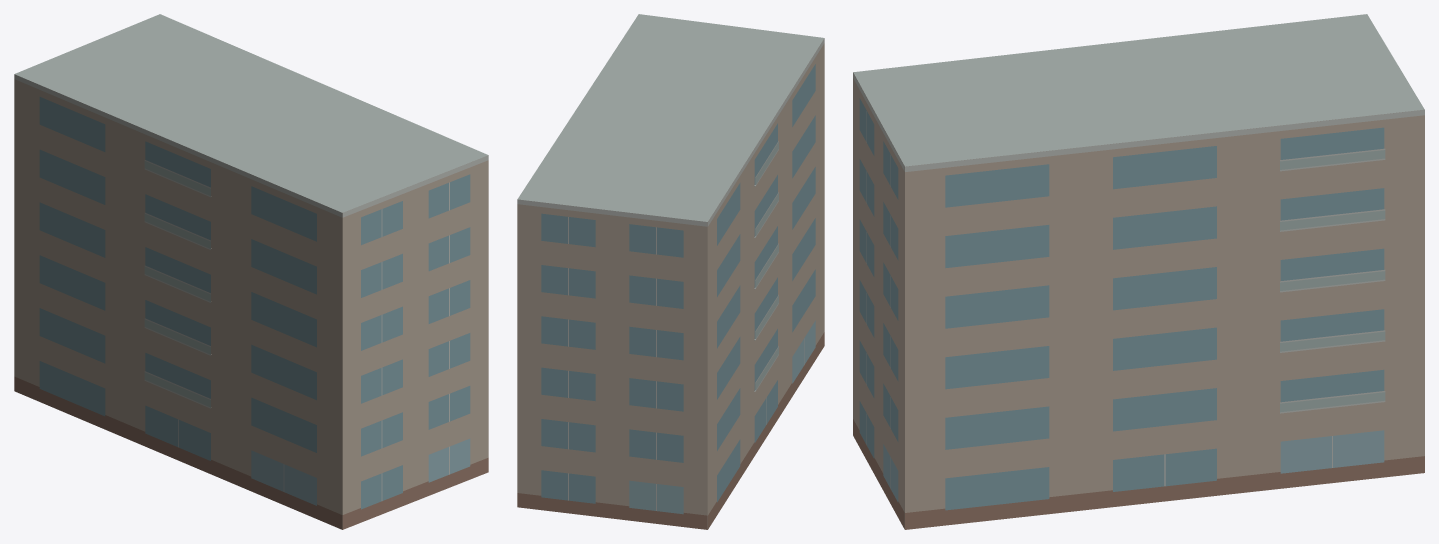
The model's file is survey-upis-32649312.glb.
3 renders of one model, left to right at view 1: azimuth 30°, elevation 25°; view 2: azimuth 150°, elevation 25°; view 3: azimuth 270°, elevation 25°, orthographic. The views are drawn at different scales.
Visible parts, largest first — view 1: survey-upis-32649312.tmp; view 2: survey-upis-32649312.tmp; view 3: survey-upis-32649312.tmp.
Boxes of the visible parts, x1=… form: survey-upis-32649312.tmp: x1=14, y1=14, x2=488, y2=529; survey-upis-32649312.tmp: x1=517, y1=14, x2=824, y2=529; survey-upis-32649312.tmp: x1=853, y1=14, x2=1424, y2=529.
Bounding box in the file's own units: 14.24 × 15.8 × 22.54.
